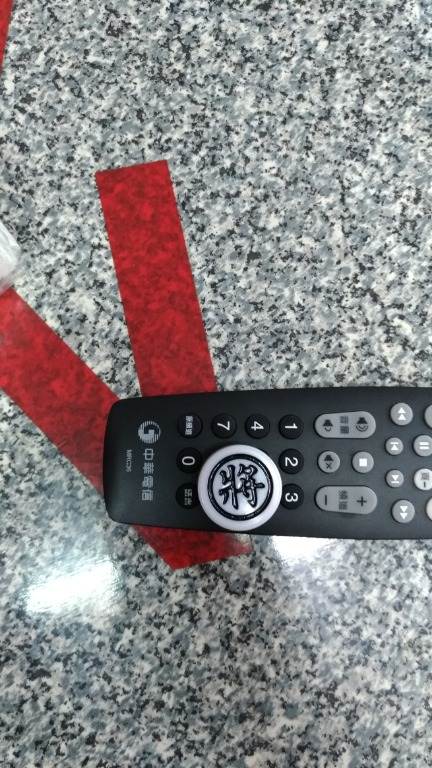b-king: (187, 434, 298, 542)
